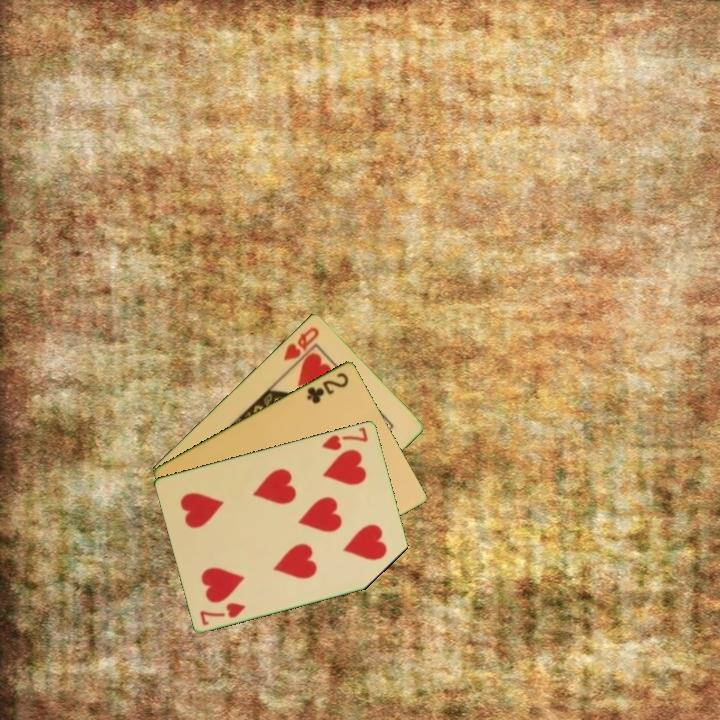2c: (303, 368, 352, 406)
7h: (319, 423, 371, 453), (196, 598, 248, 628)
Qh: (280, 323, 322, 364)
